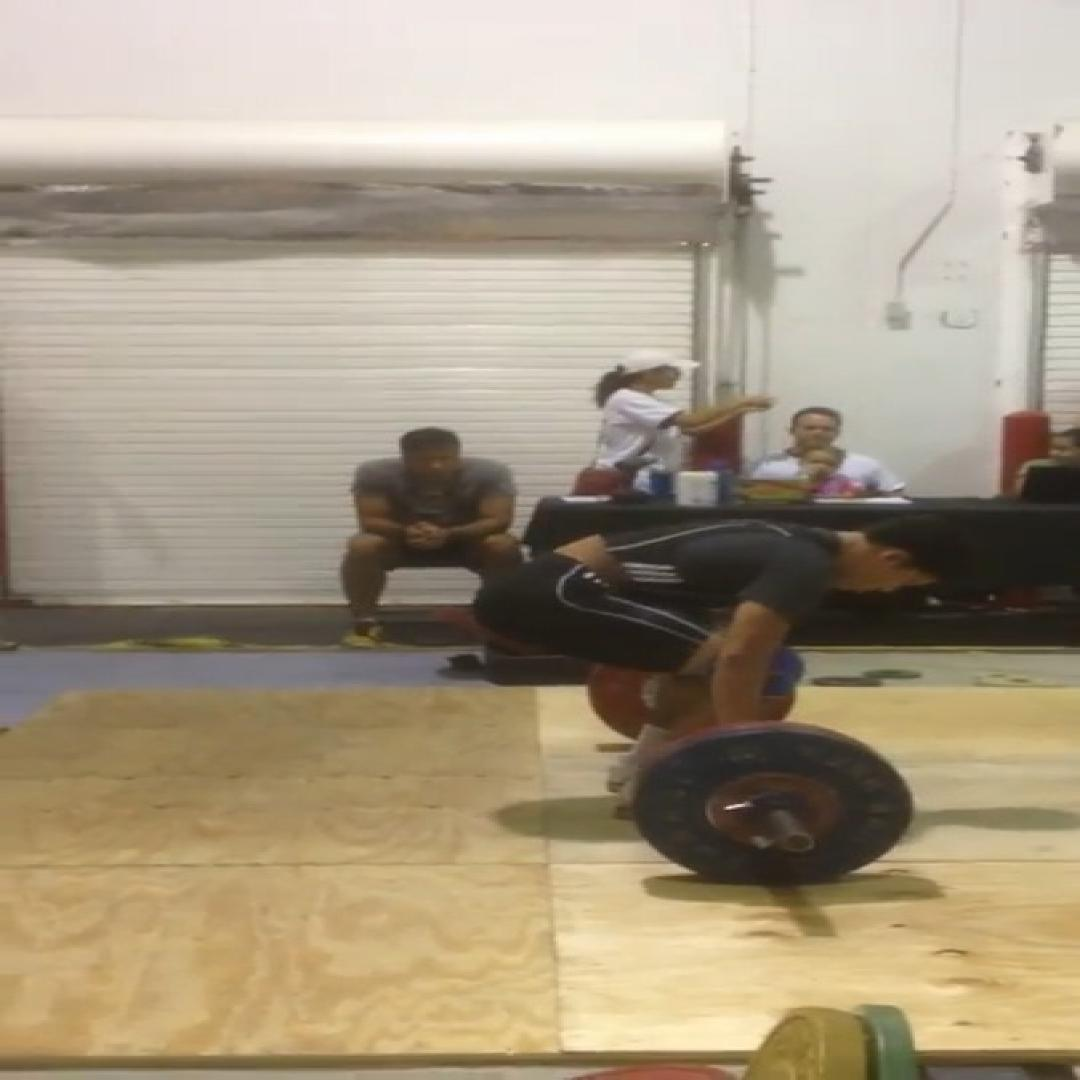Bar: (774, 829, 819, 855)
Barbell: (631, 731, 912, 885)
